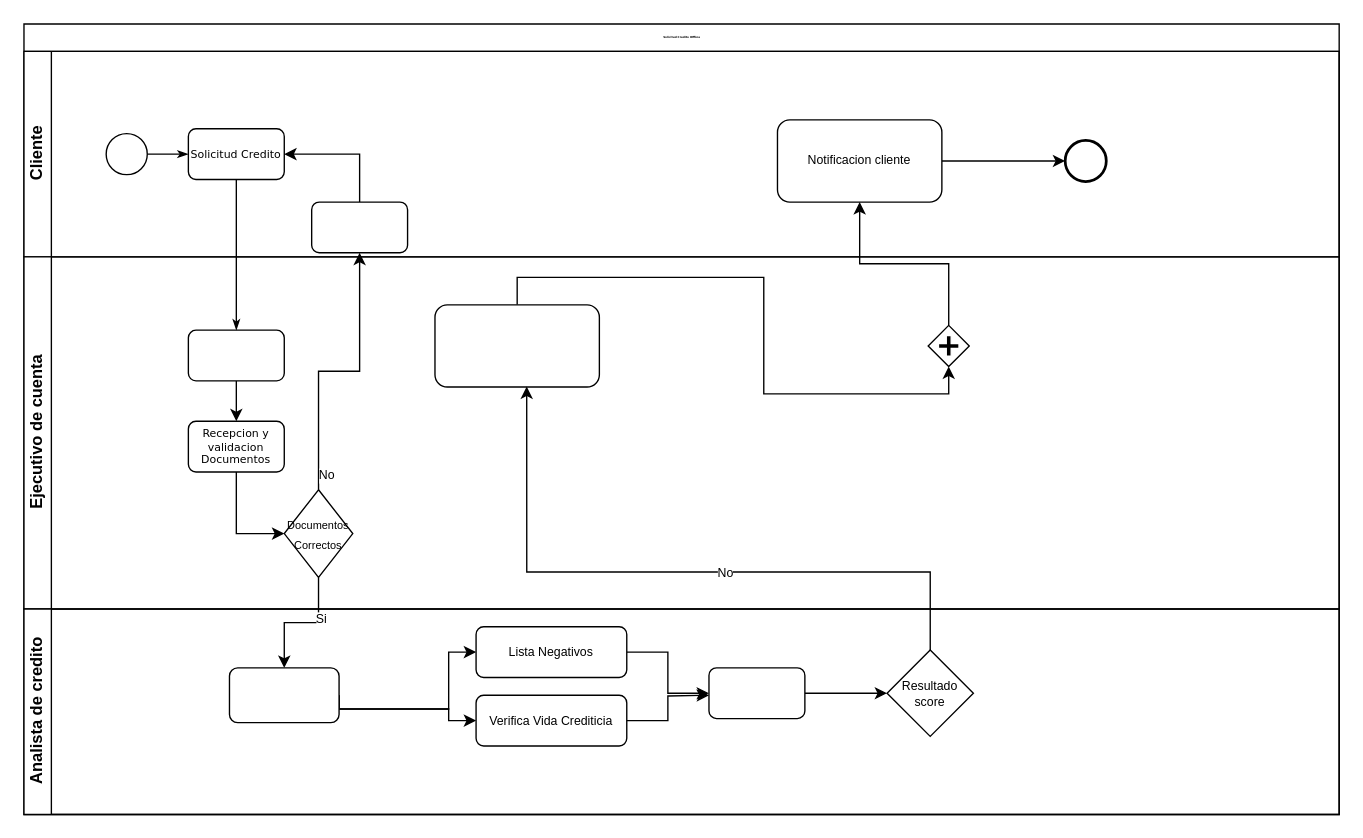
Some shapes in this 1363 by 838 pixel diagram are drawn without their labels. The shapes that lost their labels are listed below. From the top down, each one's centre as x and y in pixels, then its label:
[359,227]: Anexar documentación
[235,355]: Regisrar Soliciud de credito
[516,345]: Informar Rechazo al cliente
[283,695]: Analisis de riesgo
[756,693]: Registrar Score
